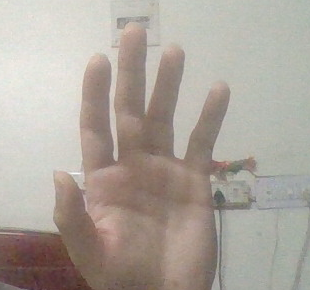move: (52, 18, 235, 281)
